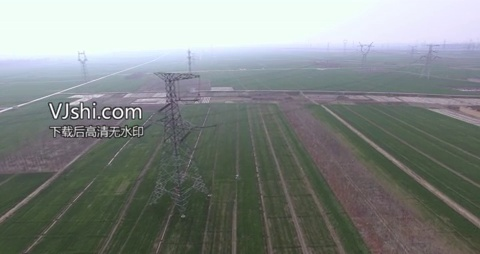tower_body: (144, 63, 222, 219)
tower_foot: (149, 177, 216, 216)
tower_head: (149, 66, 207, 85)
